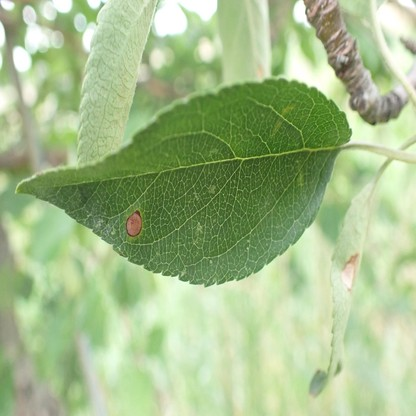frogeye_leaf_spot: (341, 253, 358, 290), (126, 210, 143, 237)
